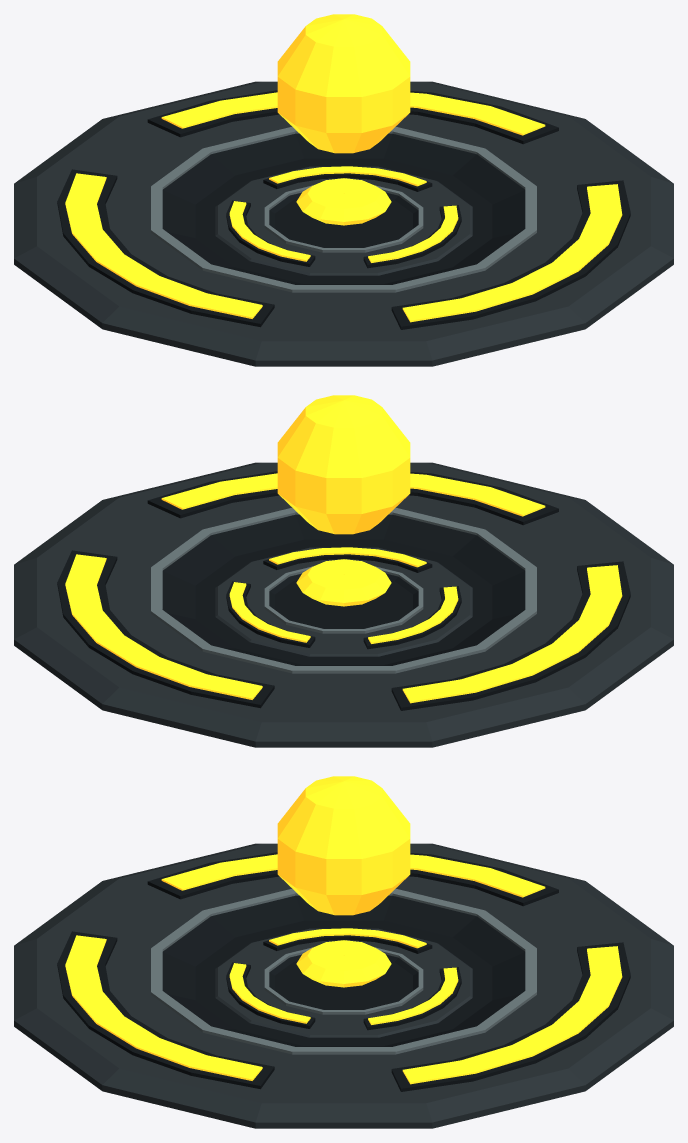
The model's file is boost-pads.glb.
The picture shows the model from 3 angles, top to bottom: view 1: azimuth 30°, elevation 25°; view 2: azimuth 150°, elevation 25°; view 3: azimuth 270°, elevation 25°; orthographic projection.
Parts seen in each view (by area): view 1: large-active-housing.001, large-active-energy.001, small-active-housing.001, small-active-energy.001; view 2: large-active-housing.001, large-active-energy.001, small-active-housing.001, small-active-energy.001; view 3: large-active-housing.001, large-active-energy.001, small-active-housing.001, small-active-energy.001.
Part boxes in pixels (box(x1,y1,x2,y2)): large-active-housing.001: box(14, 81, 673, 366); large-active-energy.001: box(65, 14, 622, 322); small-active-housing.001: box(215, 166, 472, 275); small-active-energy.001: box(229, 166, 458, 262); large-active-housing.001: box(14, 462, 673, 747); large-active-energy.001: box(65, 395, 622, 703); small-active-housing.001: box(215, 547, 472, 656); small-active-energy.001: box(229, 547, 458, 643); large-active-housing.001: box(14, 843, 673, 1128); large-active-energy.001: box(65, 776, 622, 1084); small-active-housing.001: box(215, 928, 472, 1037); small-active-energy.001: box(229, 928, 458, 1024).
Size of the model in its own units: 2.16 by 0.766 by 2.16.
